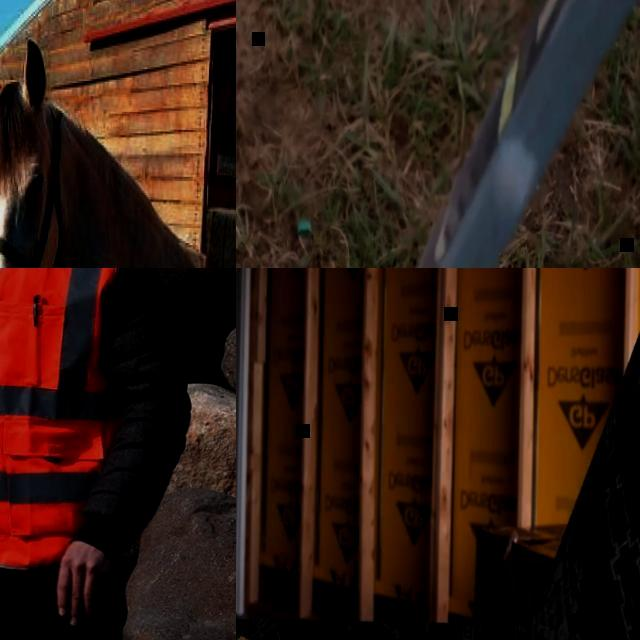person: (0, 268, 197, 640)
vest: (0, 268, 154, 566)
